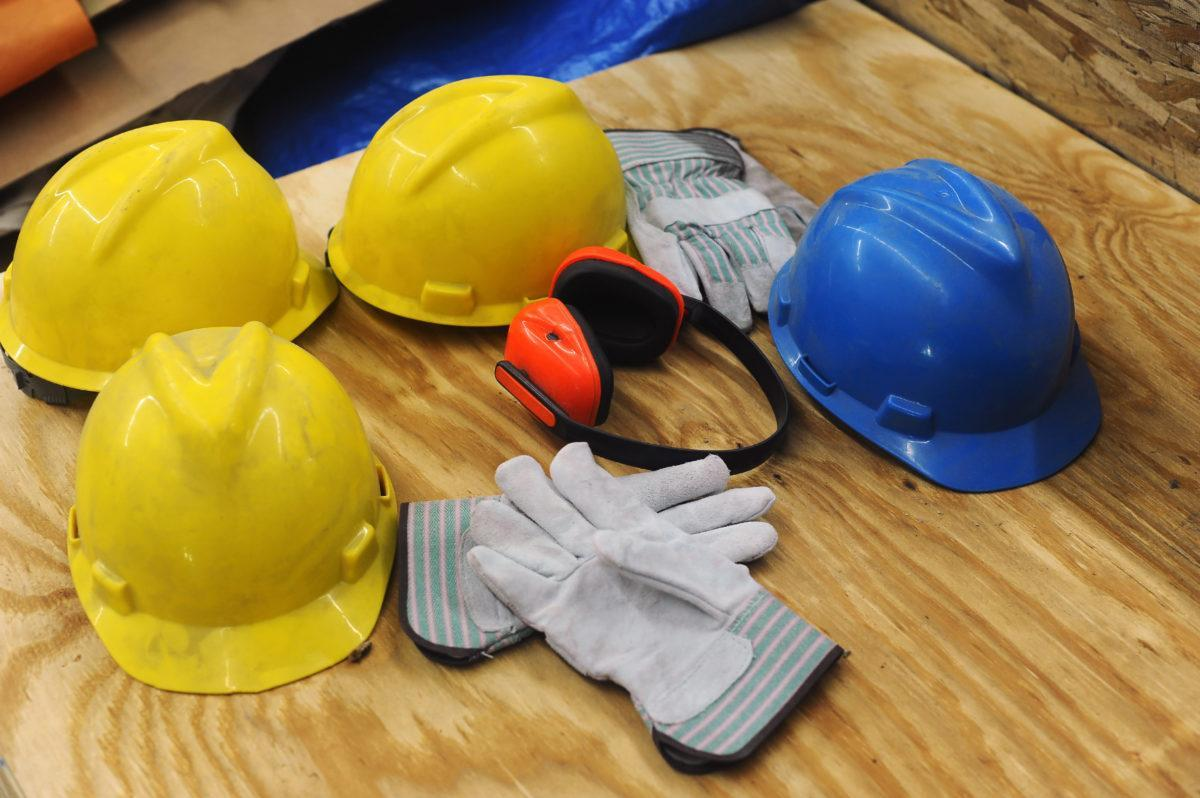helmet: (61, 327, 409, 699), (761, 156, 1114, 497), (0, 123, 336, 403), (327, 69, 632, 340)
